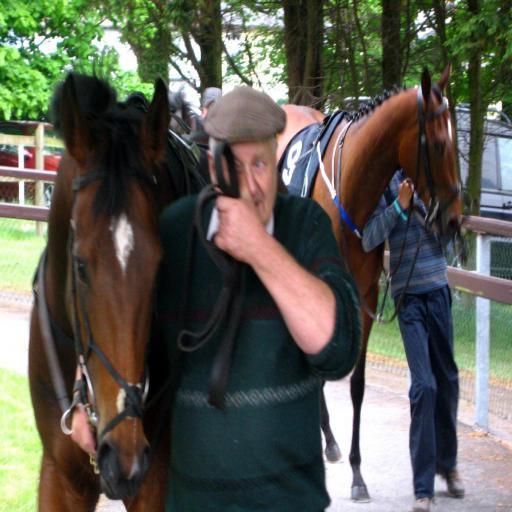horse: (28, 52, 208, 512), (276, 62, 464, 502)
